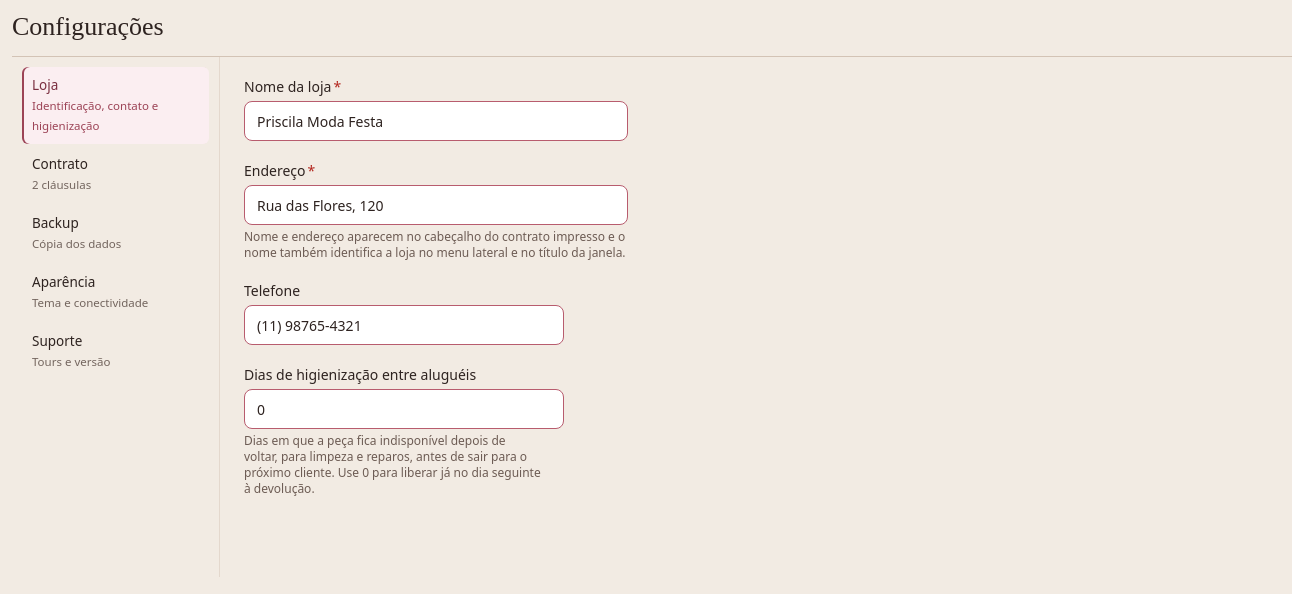
Scenario: validation feedback › CRITICAL: marks an emptied clause instead of failing silently
The width and height of the screenshot is (1292, 594).
Click the button "Contrato 2 cláusulas": (116, 174) [22, 146, 209, 203]
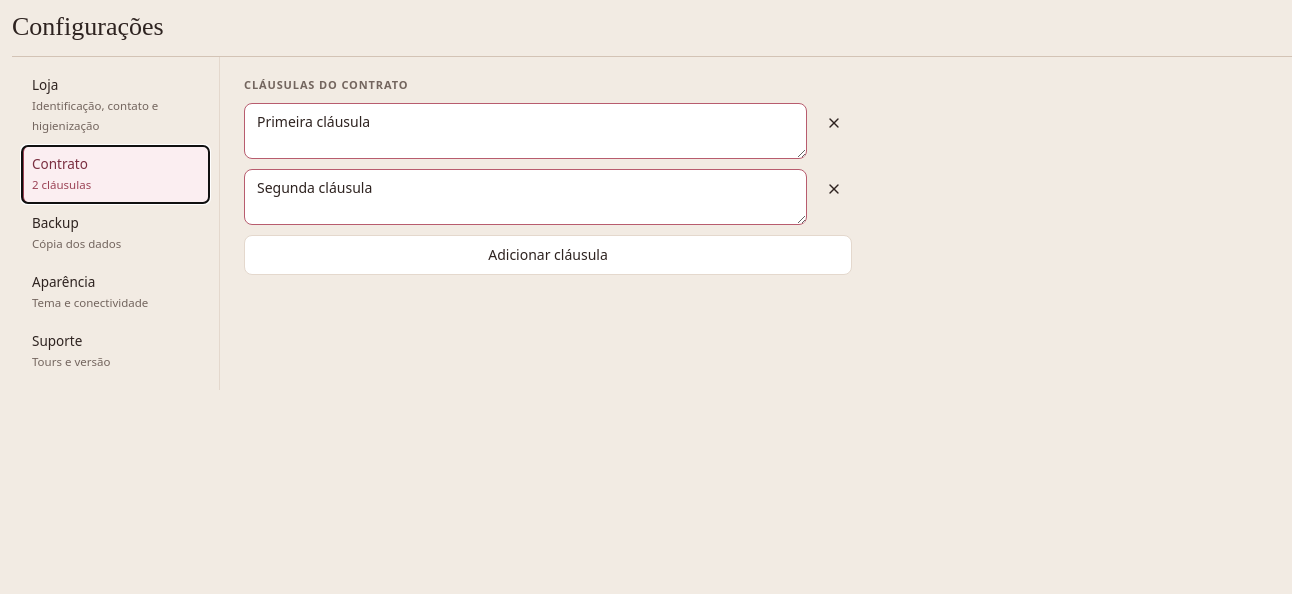
Clear the 1st text box named "Texto da cláusula": (526, 131) [244, 103, 807, 159]
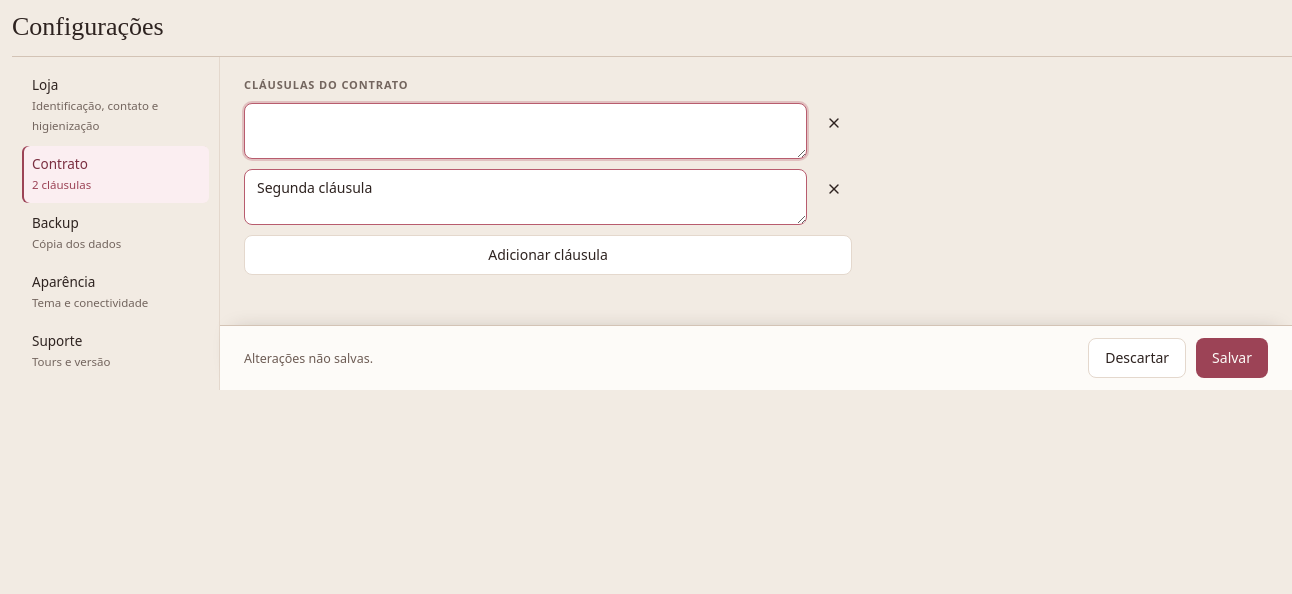
Click the button "Salvar": (1232, 358) [1196, 338, 1268, 378]
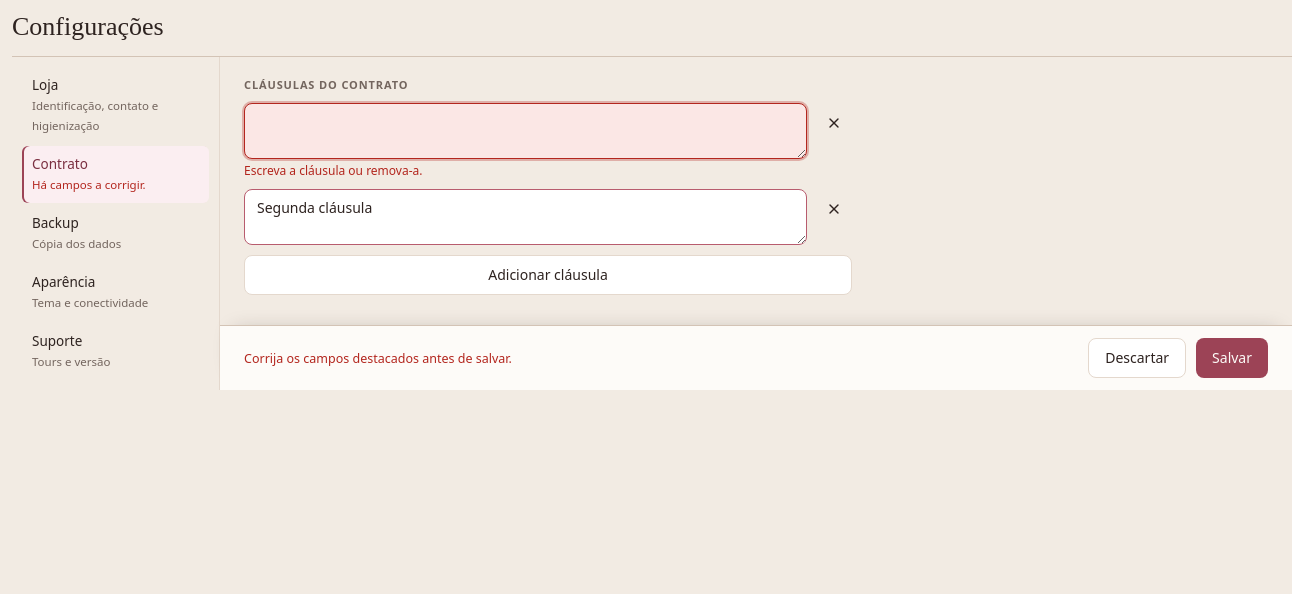
Expected: the text "Escreva a cláusula ou remova-a." is shown, [244, 162, 422, 179]
